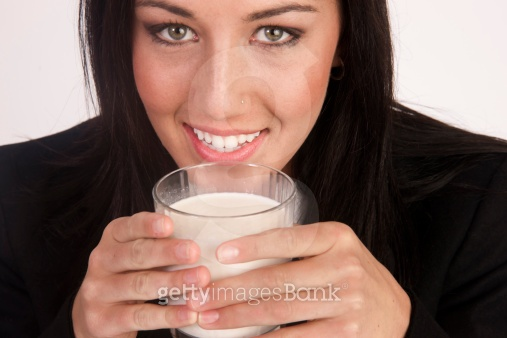glass of milk: (145, 159, 306, 338)
